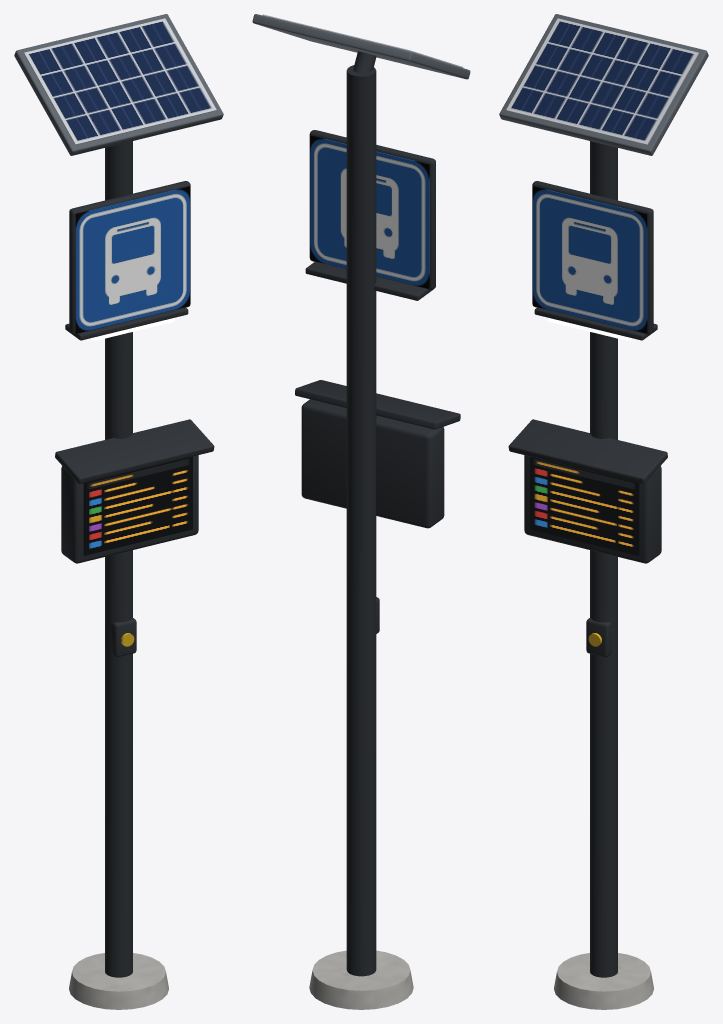
Rendered from solar-bus-stop-pole.glb.
The picture shows the model from 3 angles, left to right: view 1: azimuth 30°, elevation 25°; view 2: azimuth 150°, elevation 25°; view 3: azimuth 330°, elevation 25°; orthographic projection. The views are drawn at different scales.
Parts seen in each view (by area): view 1: Solar_Bus_Stop_Pole; view 2: Solar_Bus_Stop_Pole; view 3: Solar_Bus_Stop_Pole.
Boxes of the visible parts, bbox=[...] form: Solar_Bus_Stop_Pole: bbox=[14, 14, 223, 1009]; Solar_Bus_Stop_Pole: bbox=[252, 14, 470, 1009]; Solar_Bus_Stop_Pole: bbox=[499, 14, 708, 1009].
Bounding box in the file's own units: 0.56 × 3.3 × 0.3743.
Materials: 8 (4 with a texture image).
